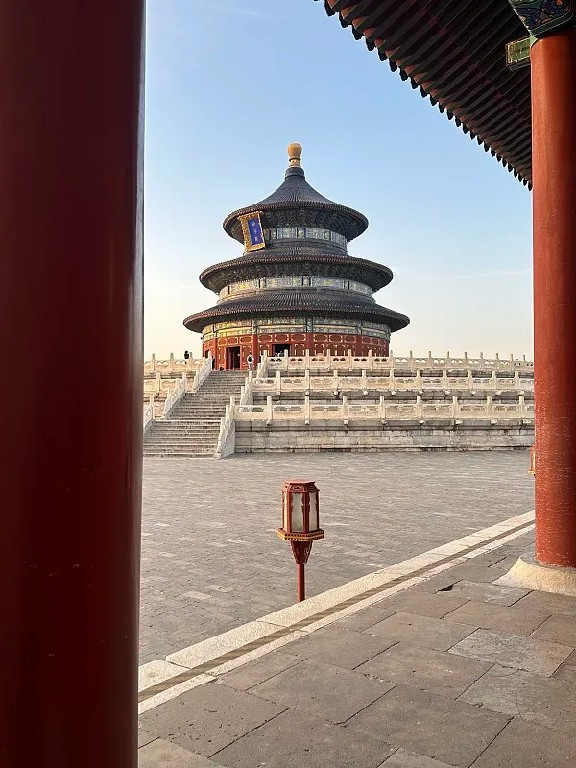Heaven: (182, 141, 410, 373)
